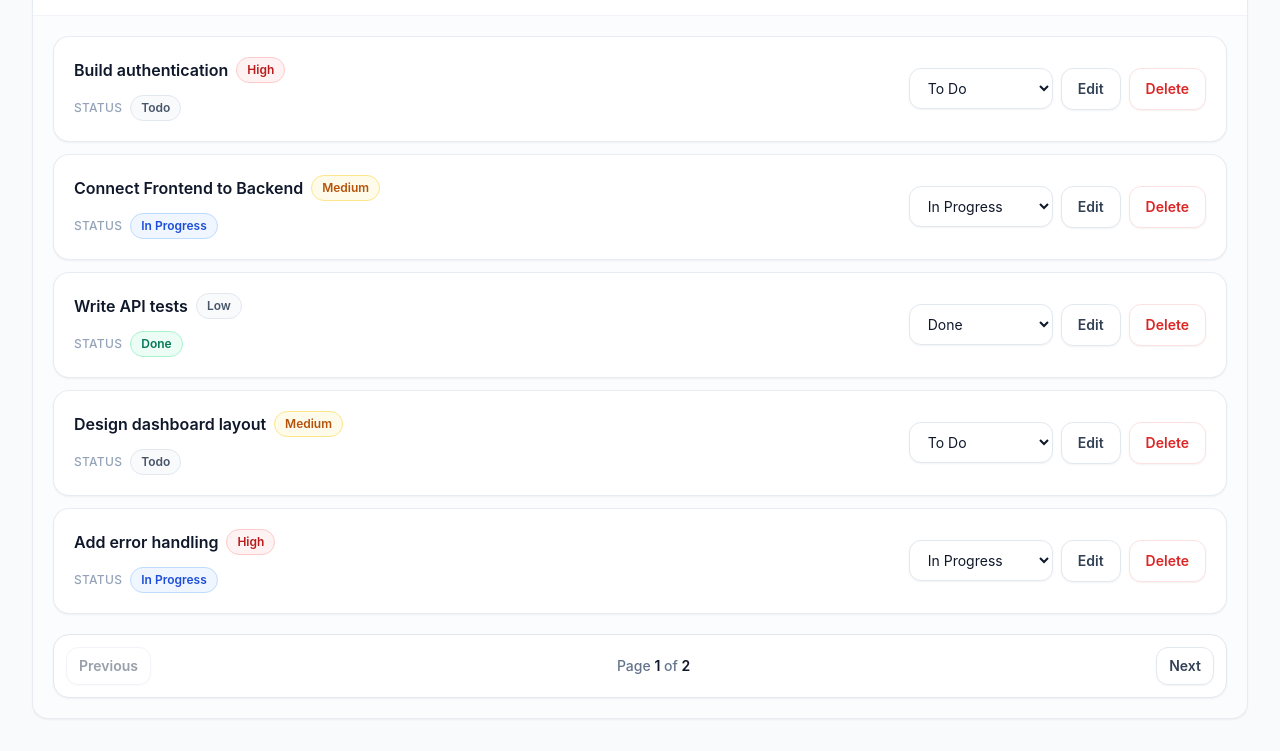
Test: Dashboard › moves back to the previous page
(page scrolled)
Click the button "Next".
click(1185, 666)  # box [1156, 647, 1214, 685]
(page scrolled)
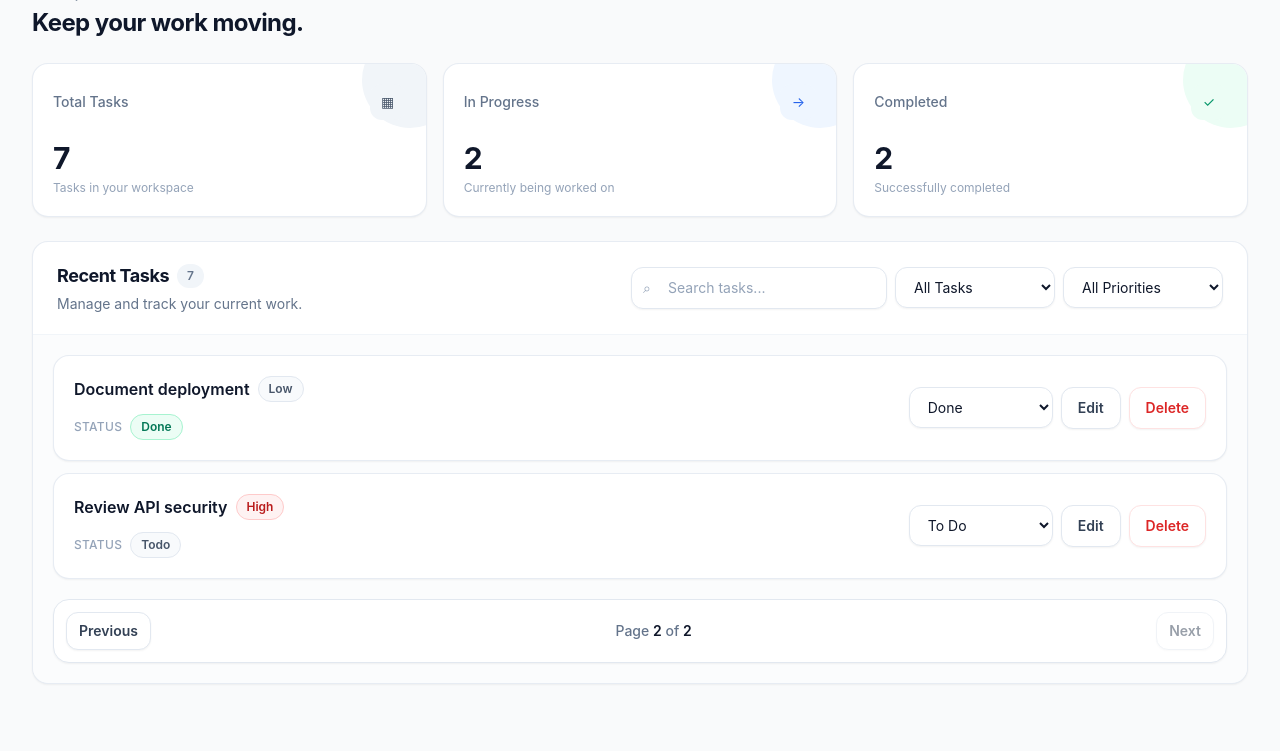
Click the button "Previous".
click(108, 631)  # box [66, 612, 151, 650]
(page scrolled)
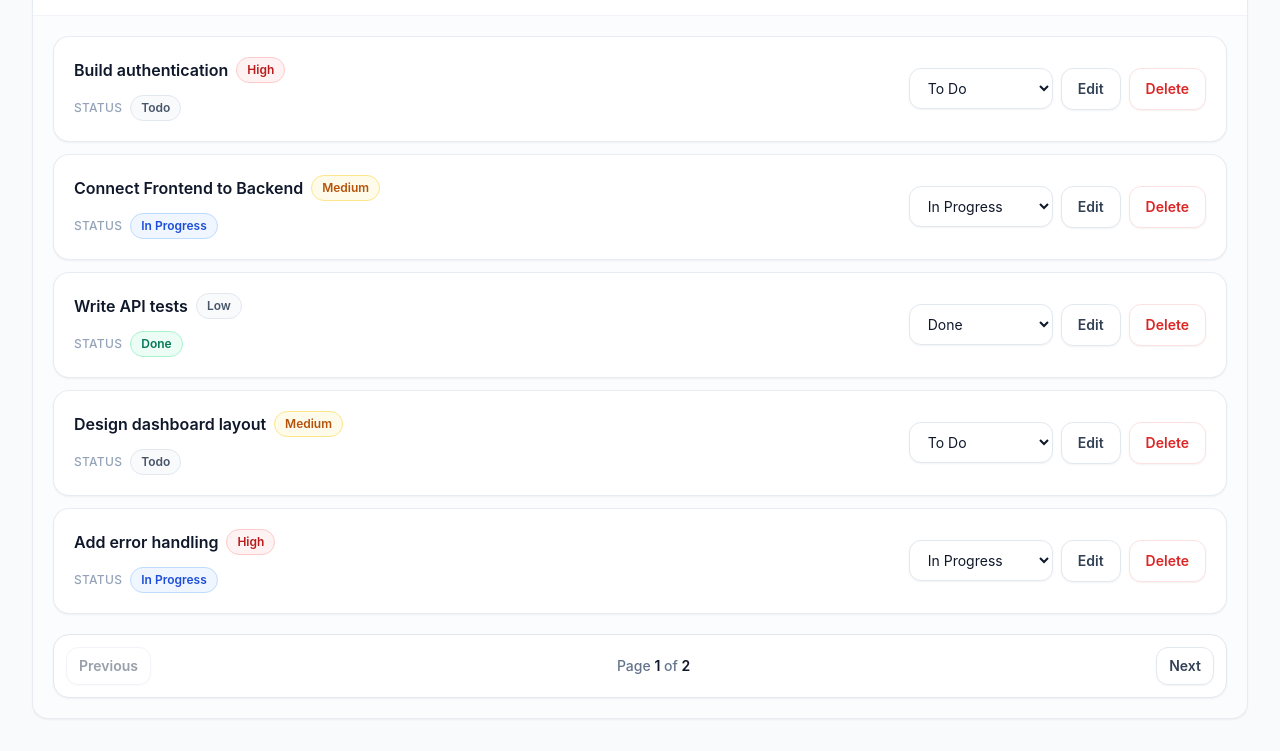
Now the text "Build authentication" is shown, box [74, 58, 228, 82]
Now the navigation bar named "Task pagination" shows "Page 1 of 2", box [53, 634, 1227, 698]
